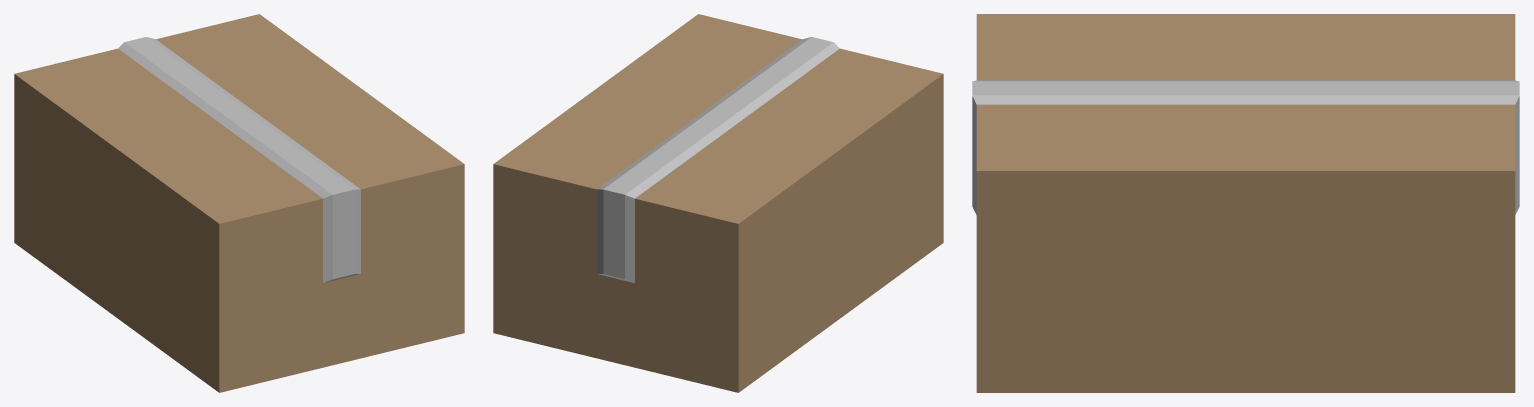
Rendered from Small_Cardboard_BOX.fbx.
The picture shows the model from 3 angles, left to right: view 1: azimuth 30°, elevation 25°; view 2: azimuth 150°, elevation 25°; view 3: azimuth 270°, elevation 25°; orthographic projection. The views are drawn at different scales.
Visible parts, largest first — view 1: Small_Cardboard_Box.002; view 2: Small_Cardboard_Box.002; view 3: Small_Cardboard_Box.002.
Boxes of the visible parts, x1,y1,x2,y2 form: Small_Cardboard_Box.002: [14, 14, 464, 392]; Small_Cardboard_Box.002: [493, 14, 943, 392]; Small_Cardboard_Box.002: [972, 14, 1519, 392].
Bounding box in the file's own units: 91.83 × 135 × 61.58.
1 material, 1 textured.
